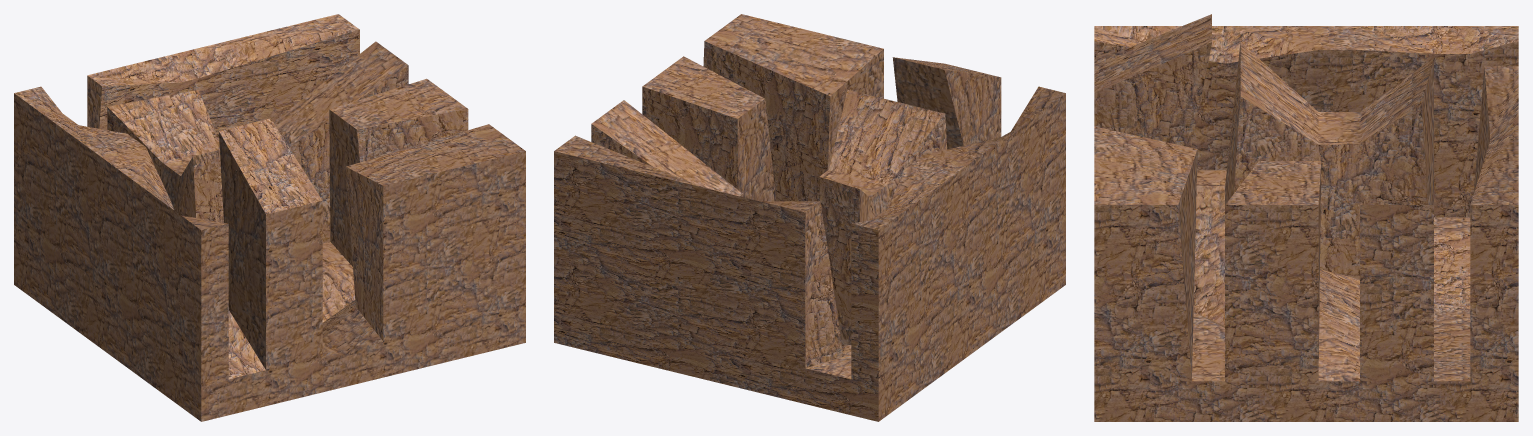
Rendered from Canyon4.fbx.
The picture shows the model from 3 angles, left to right: view 1: azimuth 30°, elevation 25°; view 2: azimuth 150°, elevation 25°; view 3: azimuth 270°, elevation 25°; orthographic projection. The views are drawn at different scales.
Parts seen in each view (by area): view 1: Canyon4; view 2: Canyon4; view 3: Canyon4.
Part boxes in pixels (box(x1,y1,x2,y2)): Canyon4: box(14, 14, 525, 421); Canyon4: box(554, 14, 1065, 421); Canyon4: box(1094, 14, 1518, 421).
Size of what is drawn, in the model's own units: 22.23 by 15.45 by 22.23.
1 material, 1 textured.
